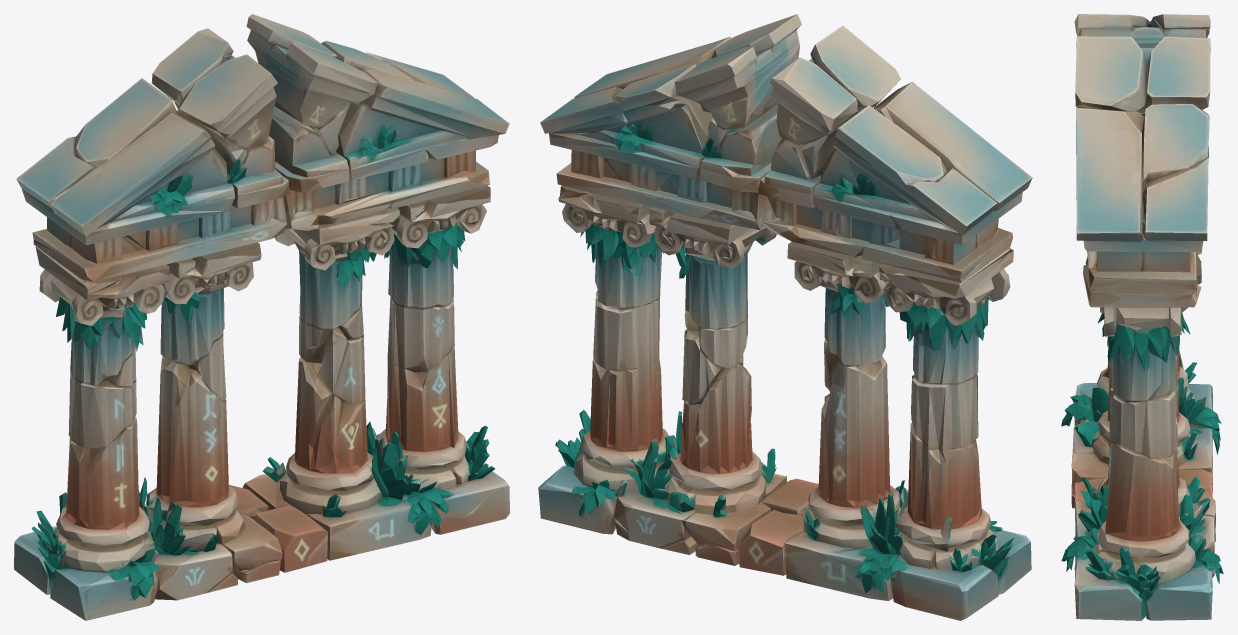
File: fake-exchange-ruins.glb
3 views of the same model, side by side, from view 1: azimuth 30°, elevation 25°; view 2: azimuth 150°, elevation 25°; view 3: azimuth 270°, elevation 25° (orthographic).
Bounding box in the file's own units: 1.8 × 1.9 × 0.5675.
1 material, 1 textured.
